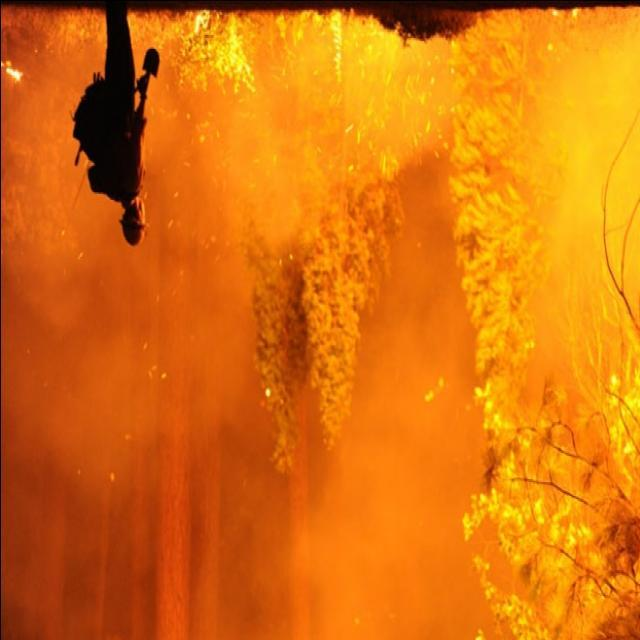Fire: (457, 358, 640, 638), (162, 0, 444, 170)
